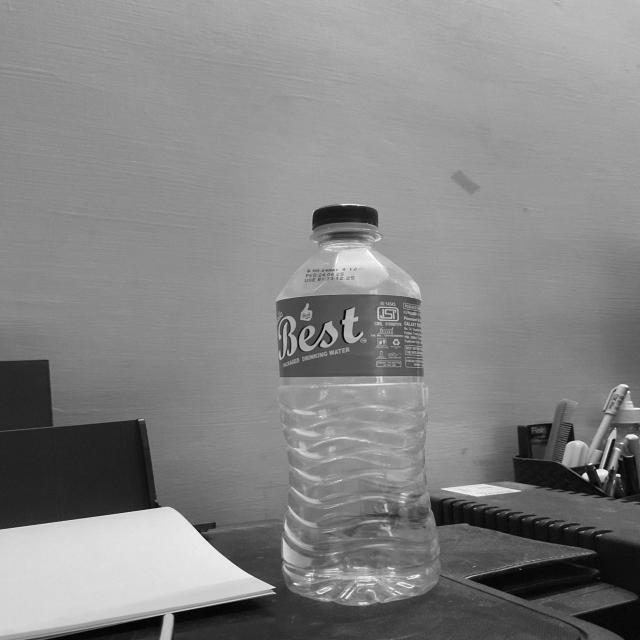Good-cap-Df0S: (308, 202, 384, 237)
